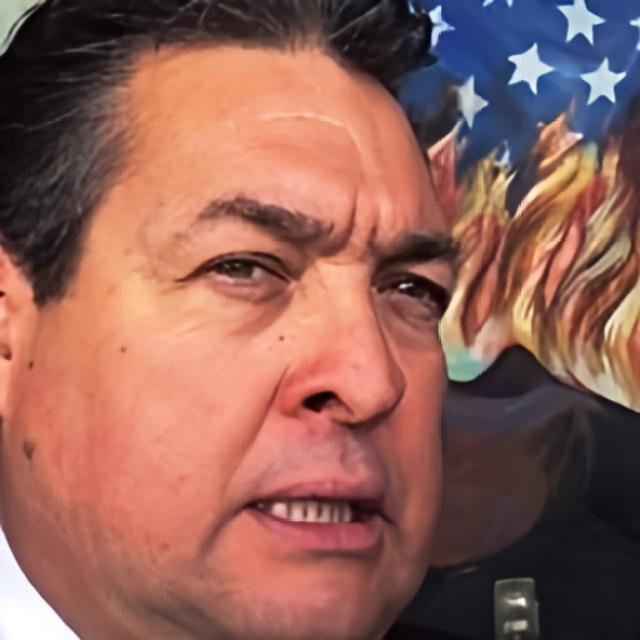disgust: (0, 44, 462, 640)
